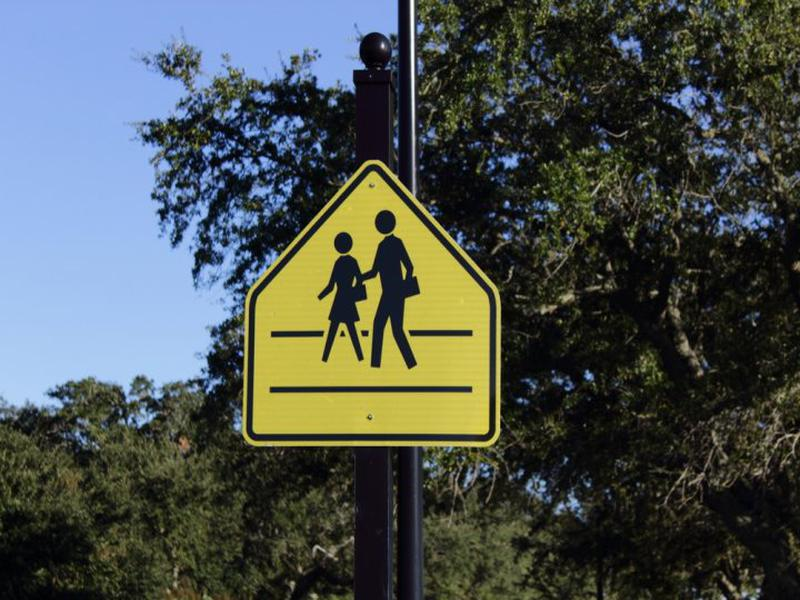slow: (233, 161, 503, 450)
